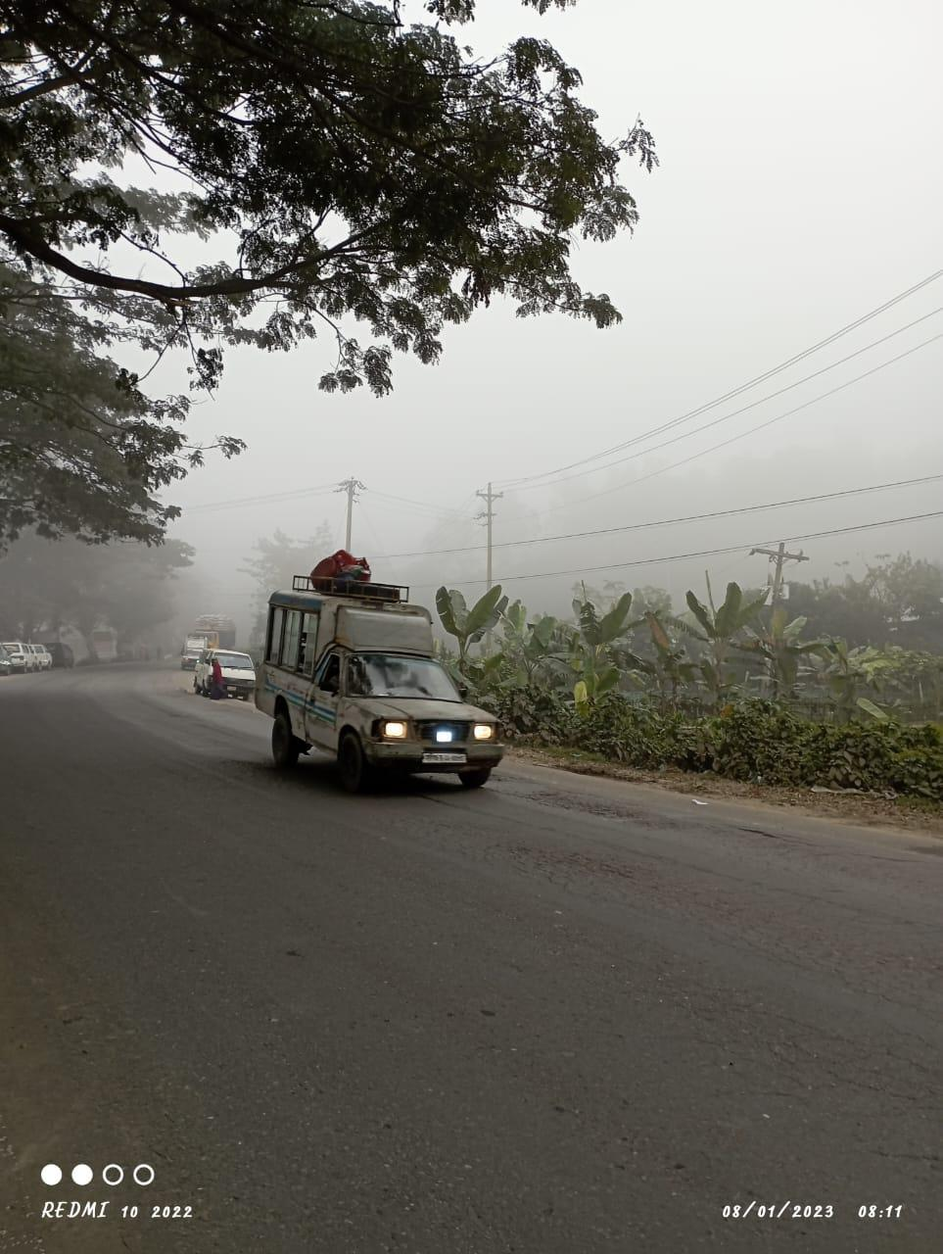Car: (256, 552, 515, 798), (188, 642, 264, 699)
